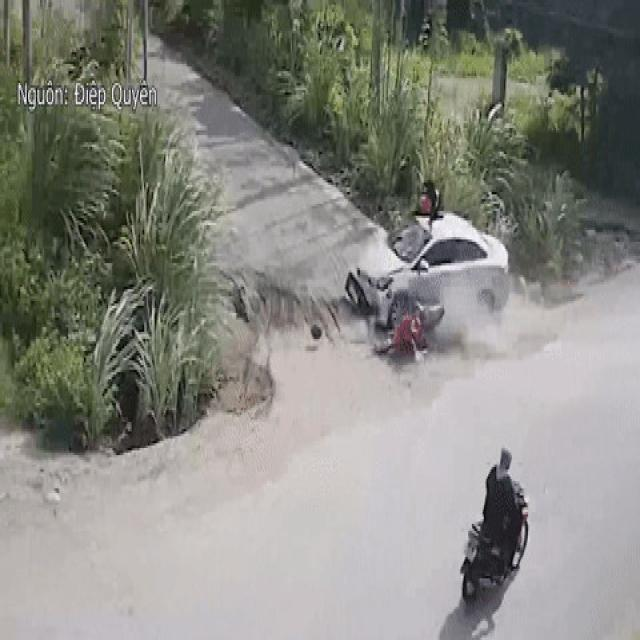multiple_accident: (339, 177, 519, 364)
normal: (447, 431, 537, 627)
